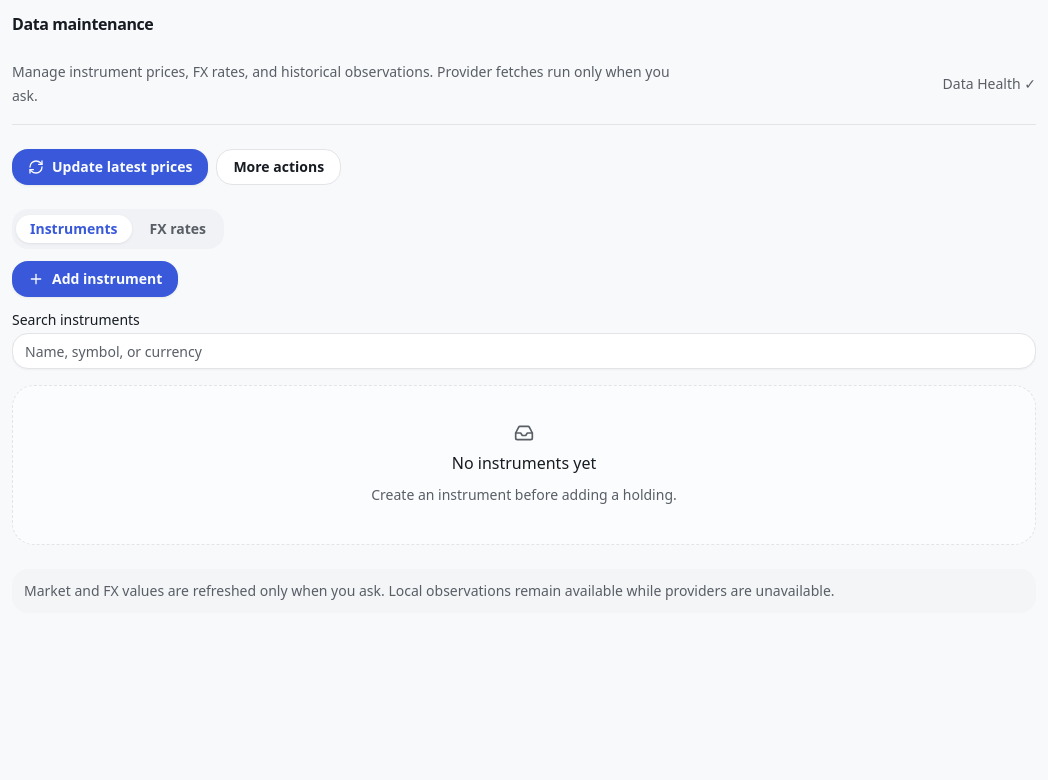
Test: MarketDataPage › configures a provider for an FX pair without a source and refreshes it
Click the tab "FX rates".
click(178, 229)  # box [136, 215, 220, 243]
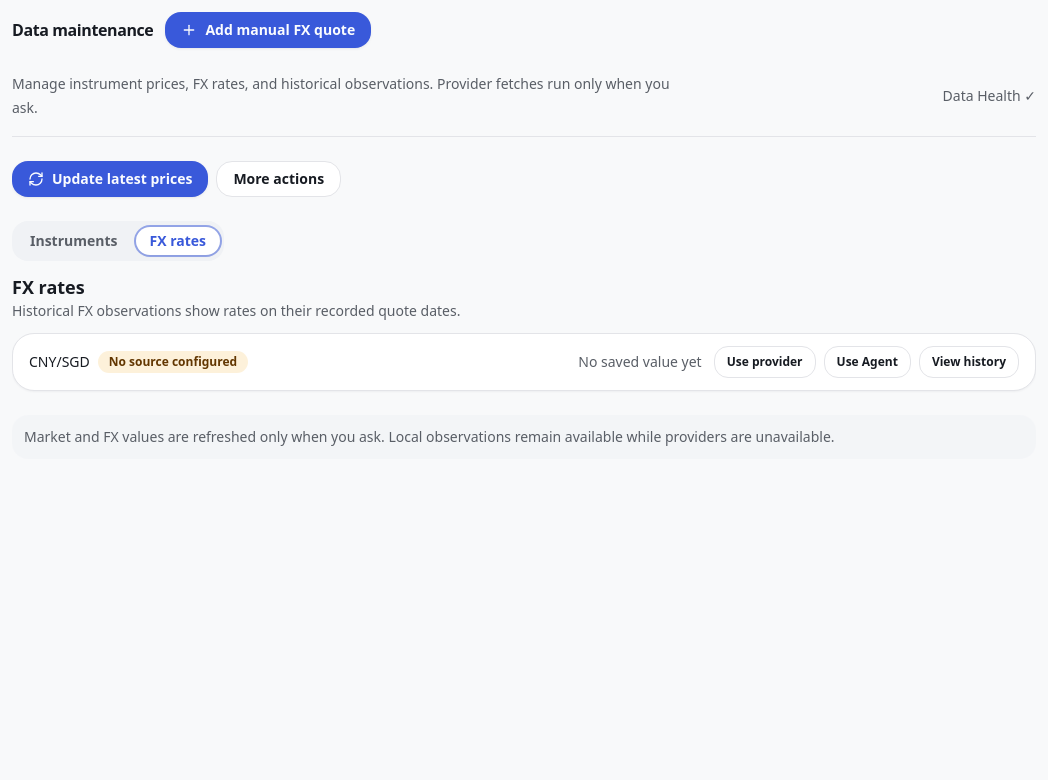
Click the button "Use provider".
click(765, 362)  # box [714, 346, 816, 378]
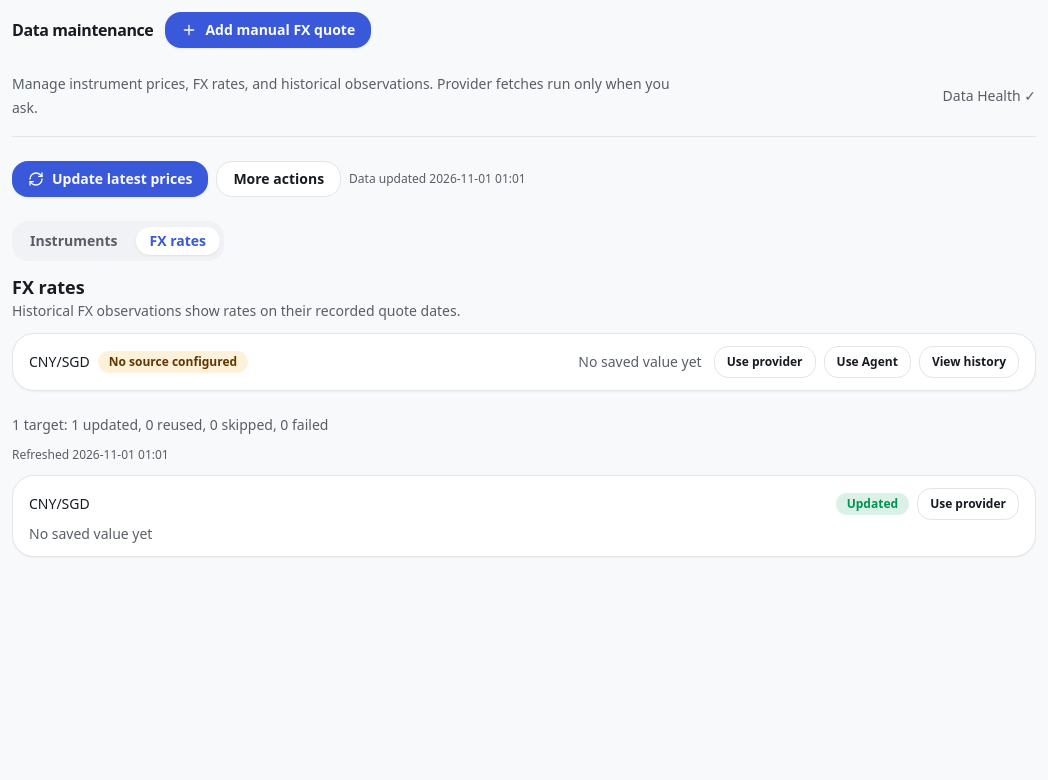
Now the list with test id "refresh-results" shows "CNY/SGD", box [29, 494, 90, 513]
